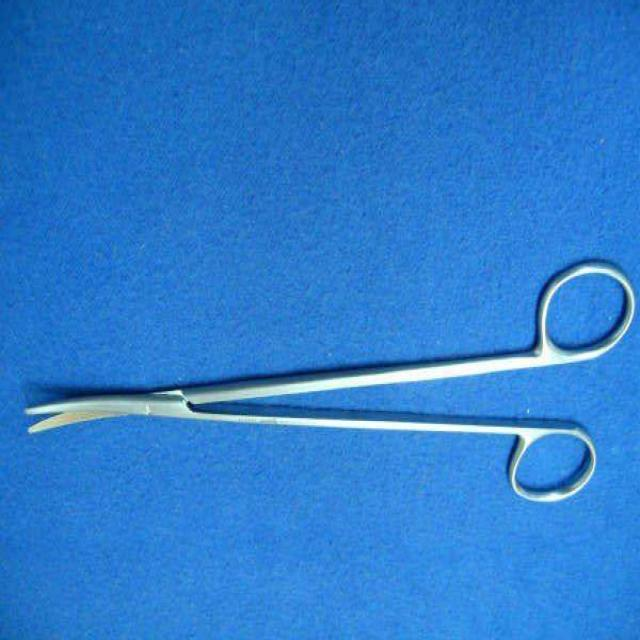Mayo_metz: (22, 252, 638, 512)
